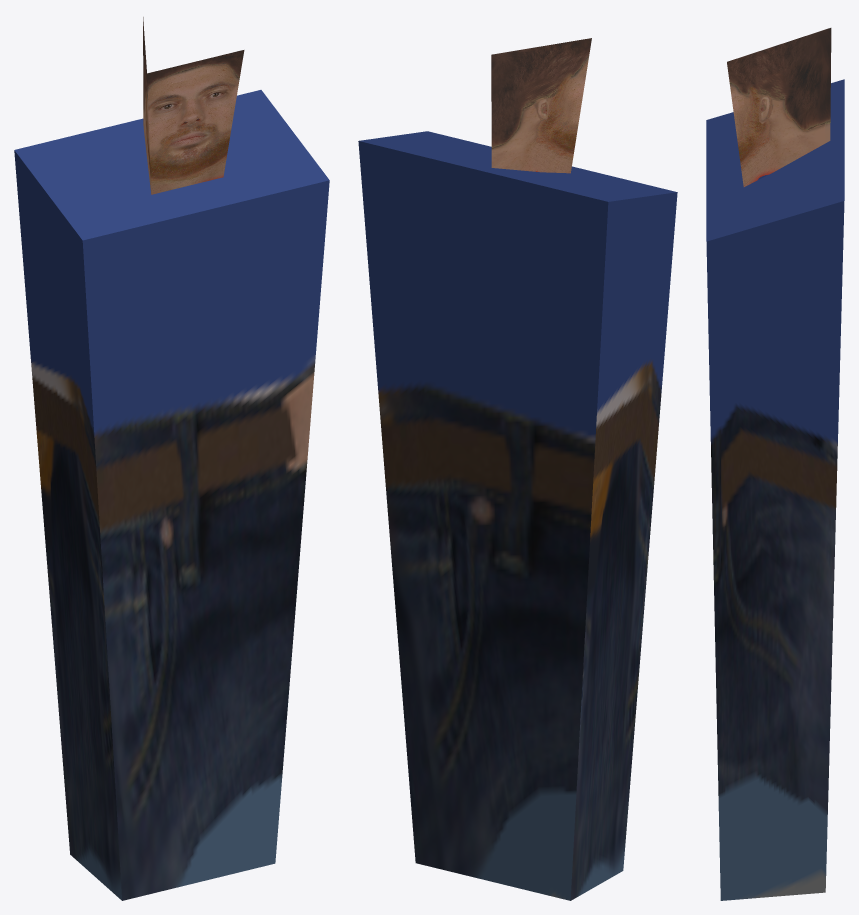
The model's file is man-casual-blue-cbj_LOD03.gltf.
3 views of the same model, side by side, from view 1: azimuth 30°, elevation 25°; view 2: azimuth 150°, elevation 25°; view 3: azimuth 270°, elevation 25° (orthographic).
Parts seen in each view (by area): view 1: Cube; view 2: Cube; view 3: Cube.
Part boxes in pixels (x1=…): Cube: x1=14, y1=17, x2=329, y2=900; Cube: x1=358, y1=38, x2=677, y2=900; Cube: x1=706, y1=28, x2=844, y2=900.
Size of what is drawn, in the model's own units: 0.578 by 1.85 by 0.2773.
